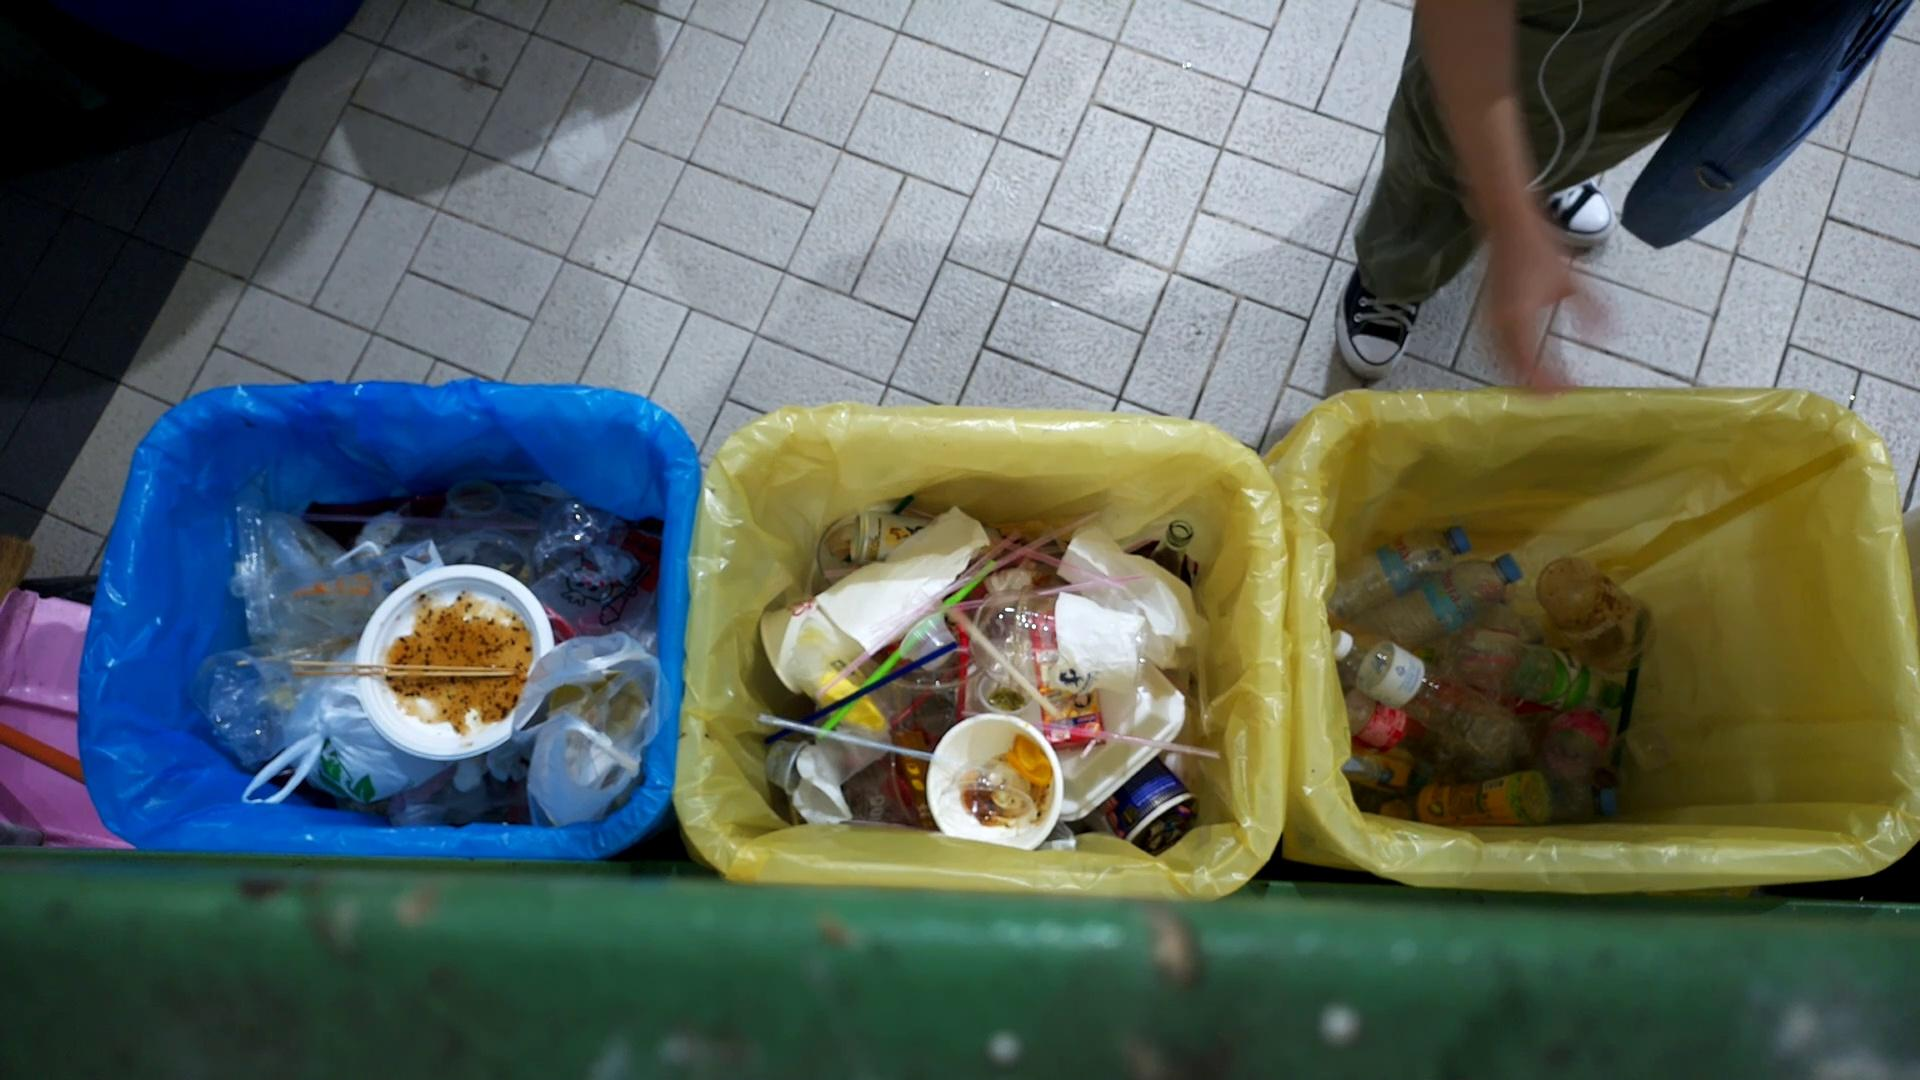filled plastic bag: (240, 642, 458, 804), (513, 633, 661, 827)
food container: (351, 562, 556, 758), (926, 713, 1064, 853), (899, 616, 955, 670)
plastic bottle: (1332, 628, 1515, 756), (1342, 553, 1526, 649), (1324, 525, 1473, 618), (1379, 769, 1556, 825)
plastic cup: (965, 589, 1149, 692), (1536, 556, 1660, 673), (938, 762, 1036, 831)
snack packaging: (1009, 735, 1051, 781)
sticks: (285, 655, 517, 678)
straw: (818, 531, 1017, 698), (820, 556, 996, 733), (865, 510, 1097, 633), (762, 640, 953, 745), (907, 508, 1127, 592), (960, 708, 1221, 761), (922, 572, 1146, 612), (761, 712, 935, 761)
tissue paper: (1044, 592, 1151, 691)
